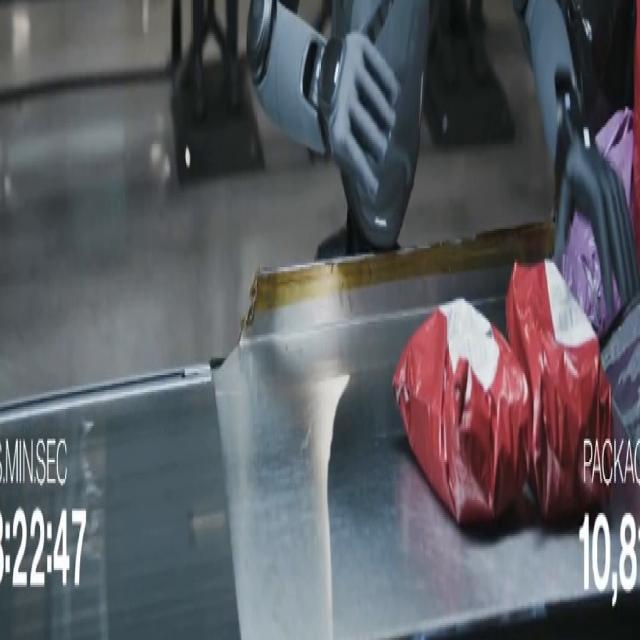package: (393, 299, 530, 525), (506, 261, 611, 523), (561, 212, 620, 336), (632, 128, 639, 262)
